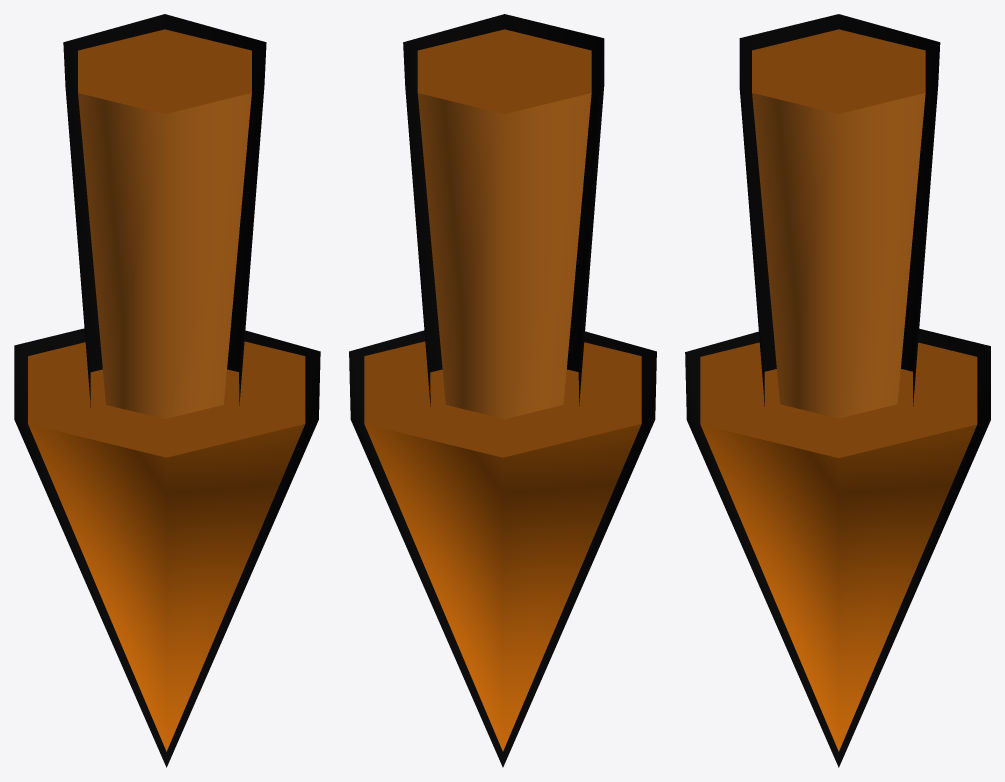
Rendered from Tag_Arrow.FBX.
The picture shows the model from 3 angles, left to right: view 1: azimuth 30°, elevation 25°; view 2: azimuth 150°, elevation 25°; view 3: azimuth 270°, elevation 25°; orthographic projection.
Parts seen in each view (by area): view 1: Cone02; view 2: Cone02; view 3: Cone02.
Boxes of the visible parts, x1,y1,x2,y2 form: Cone02: [14, 14, 320, 767]; Cone02: [349, 14, 656, 767]; Cone02: [685, 14, 990, 767].
Bounding box in the file's own units: 66.34 × 146 × 57.45.
